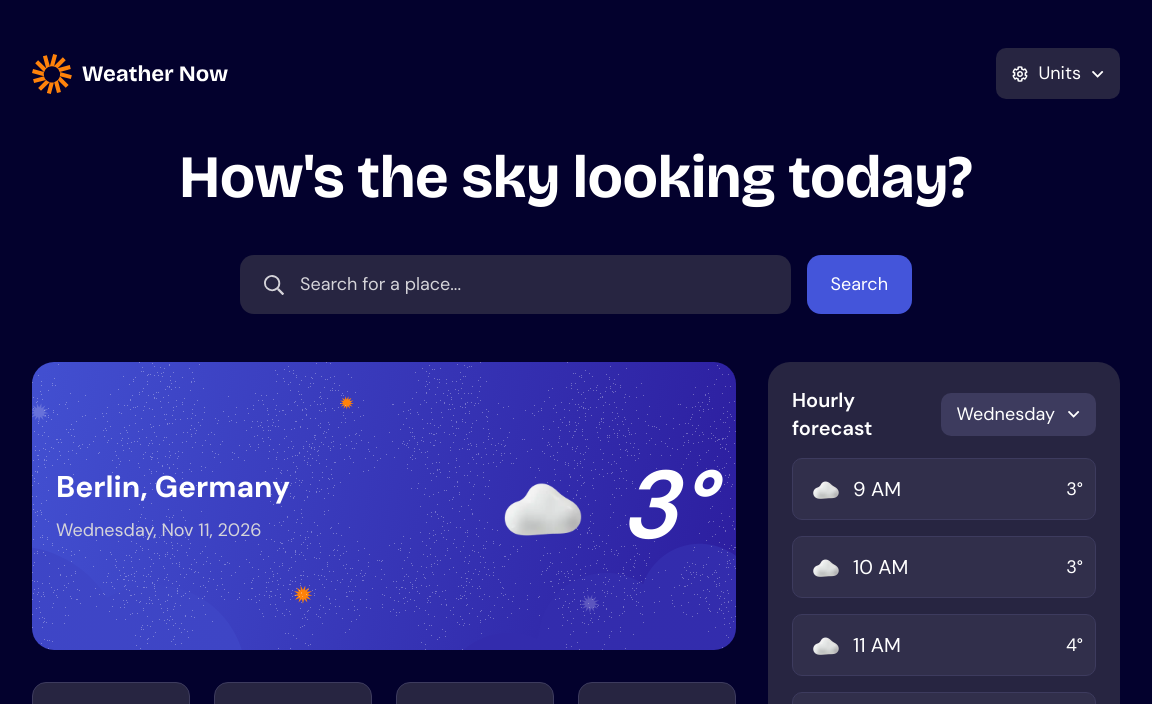
Test: 지역 검색 요청 › 검색어 앞뒤 공백을 지운 값으로 Geocoding을 요청한다
This screenshot has width=1152, height=704.
Expected: the text "Berlin, Germany" is shown, x1=56 y1=468 x2=290 y2=504
Type "  Berlin " into the dropdown at point(515, 284), box x1=240 y1=255 x2=791 y2=314
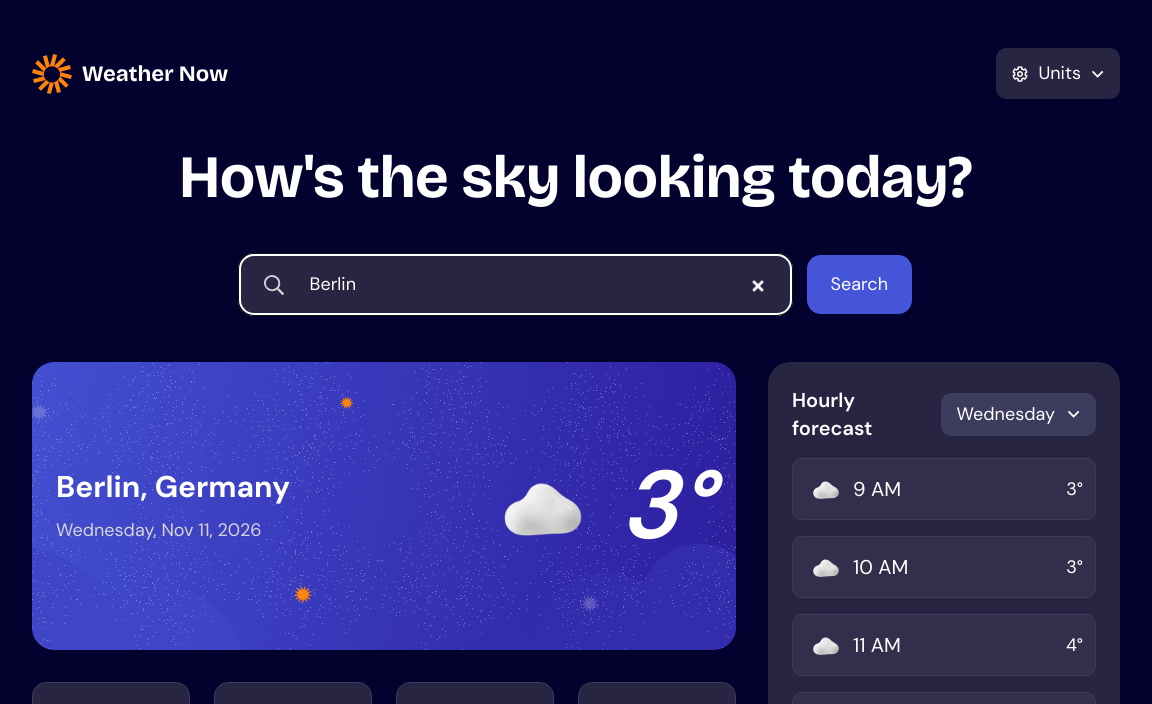
Click the button "Search" at point(859, 284), box x1=807 y1=255 x2=912 y2=314
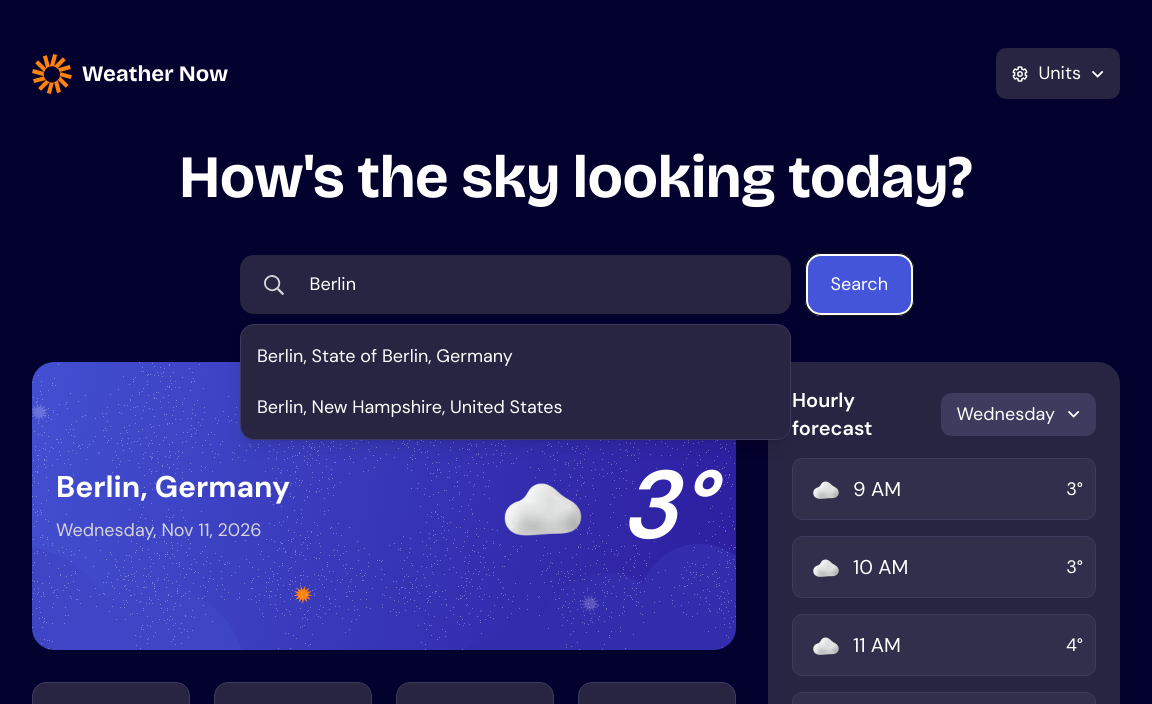
Result: the list named "Search results" is shown at x1=240 y1=324 x2=791 y2=440
